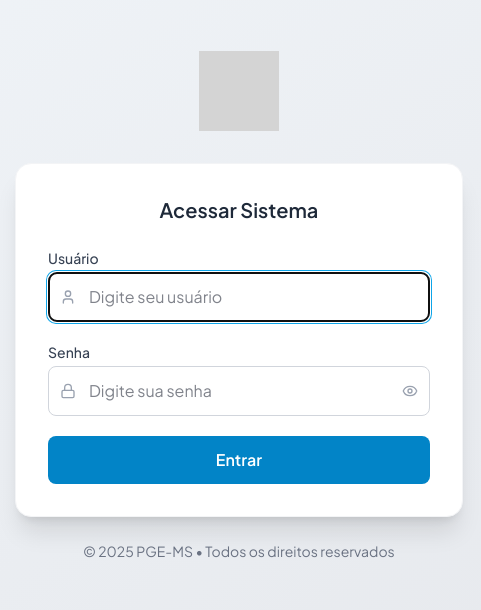
LoginPage › deve exibir mensagem generica quando erro nao e instancia de Error
This screenshot has width=481, height=610.
Type "admin" into the field labelled "Usuário" at [239, 297], box [48,272,430,322]
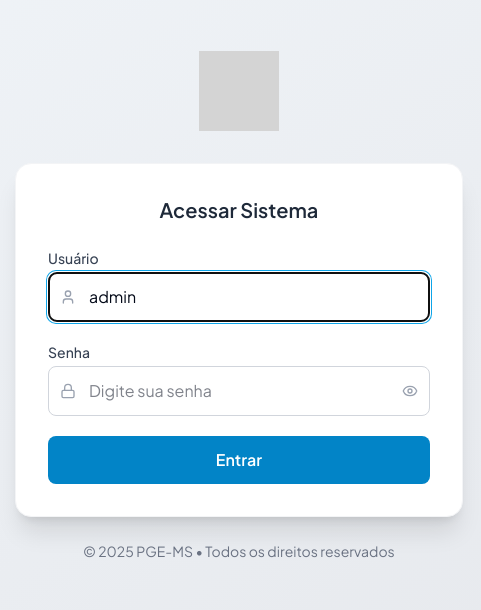
Type "errada" into the password field labelled "Senha" at [239, 391], box [48,366,430,416]
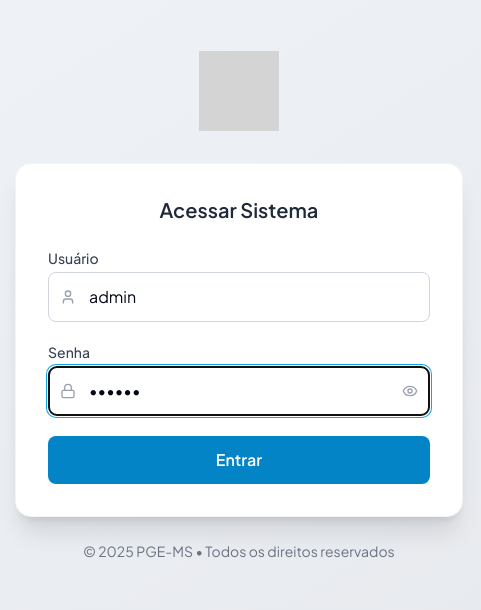
Click the button "Entrar" at [239, 460], box [48,436,430,484]
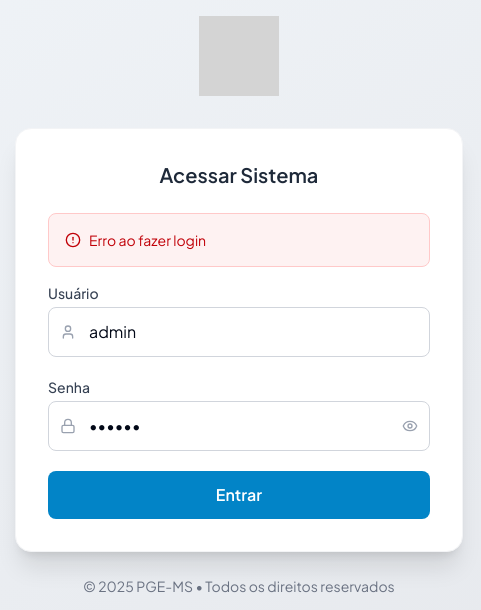
Now the text "Erro ao fazer login" is shown, box [89,230,206,250]
